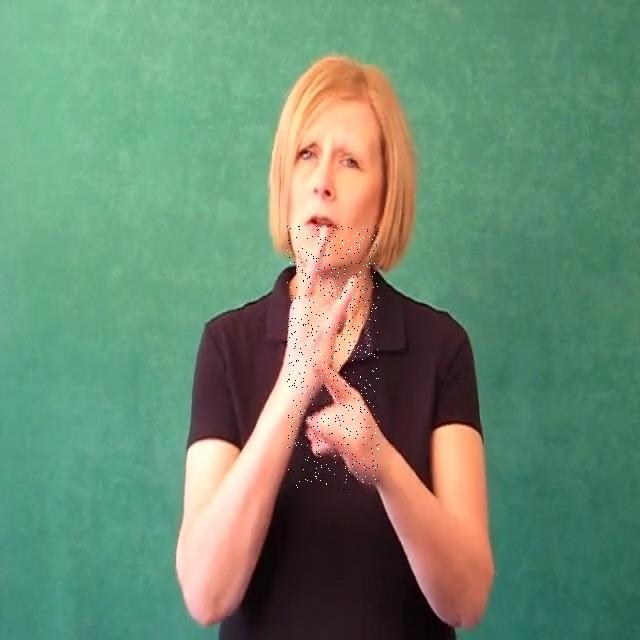alcohol: (287, 226, 379, 490)
